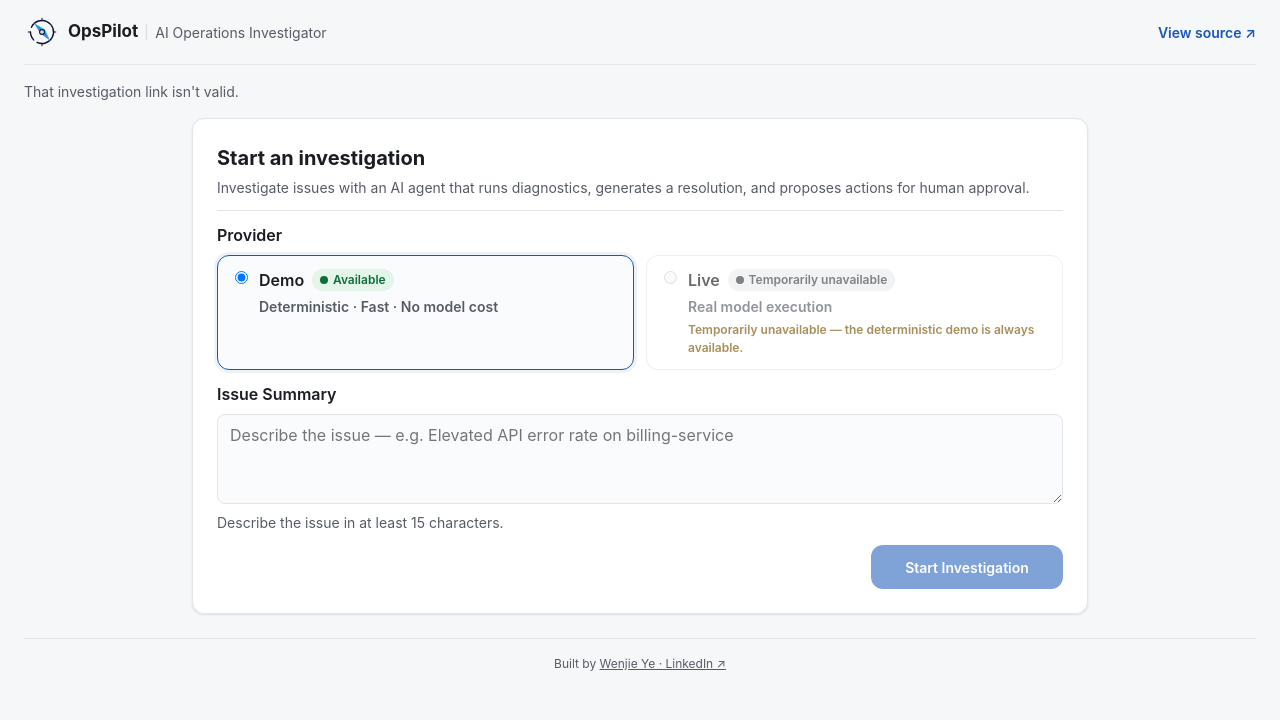
Test: durable contradiction handling survives an in-flight owner continuation (Finding 3) › Case B (failure ordering, final Codex re-review Finding 2): poll COMPLETED claims owner, its approval fetch is deferred, a contradictory POST FAILED arrives, th
Type "Elevated error rate" into the text box labelled "Issue Summary" at x=640, y=459, box x1=217 y1=414 x2=1063 y2=504
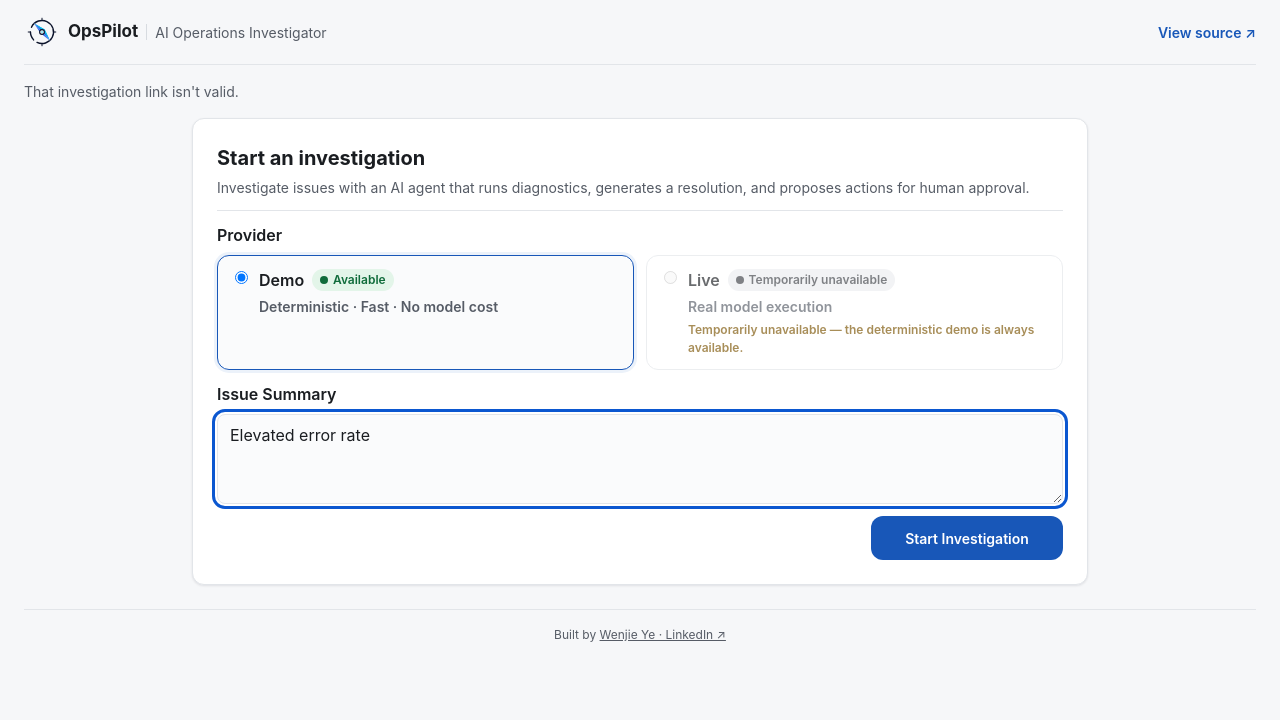
Click the button "Start Investigation" at x=967, y=538, box x1=871 y1=516 x2=1063 y2=560
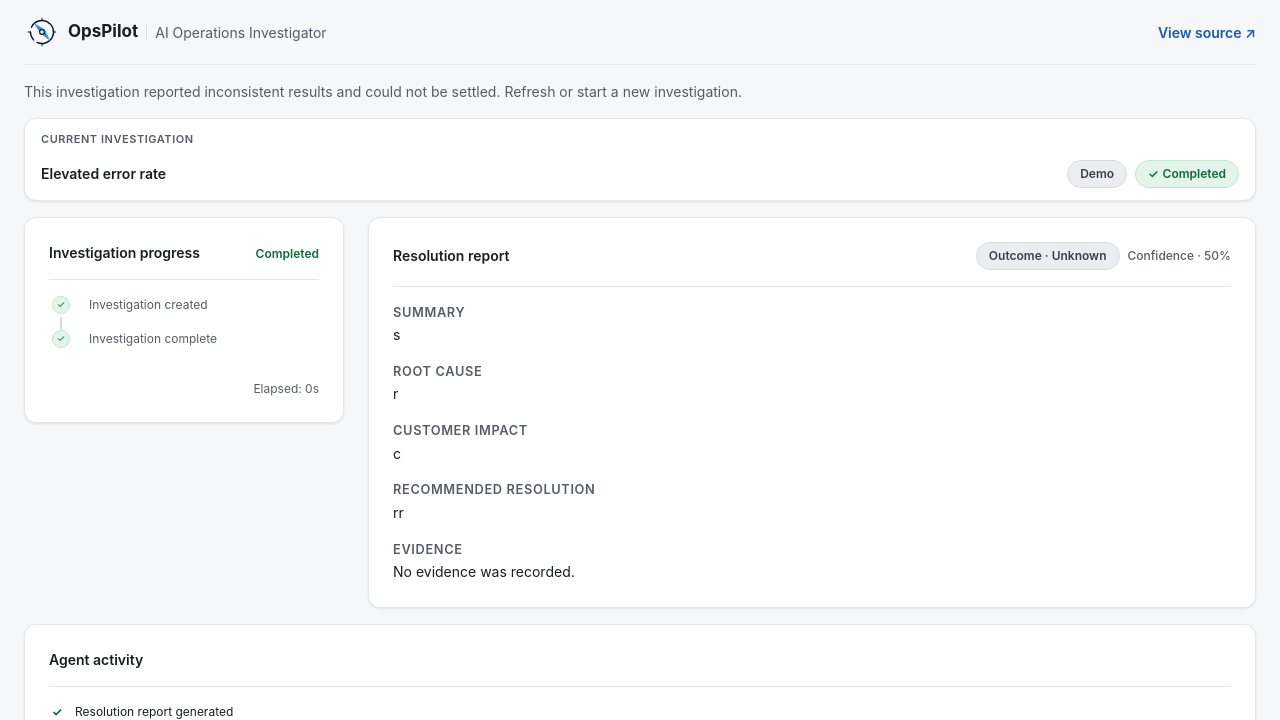
Expected: the message shows "This investigation reported inconsistent results and could not be settled. Refresh or start a new investigation.", x1=24 y1=83 x2=742 y2=100
